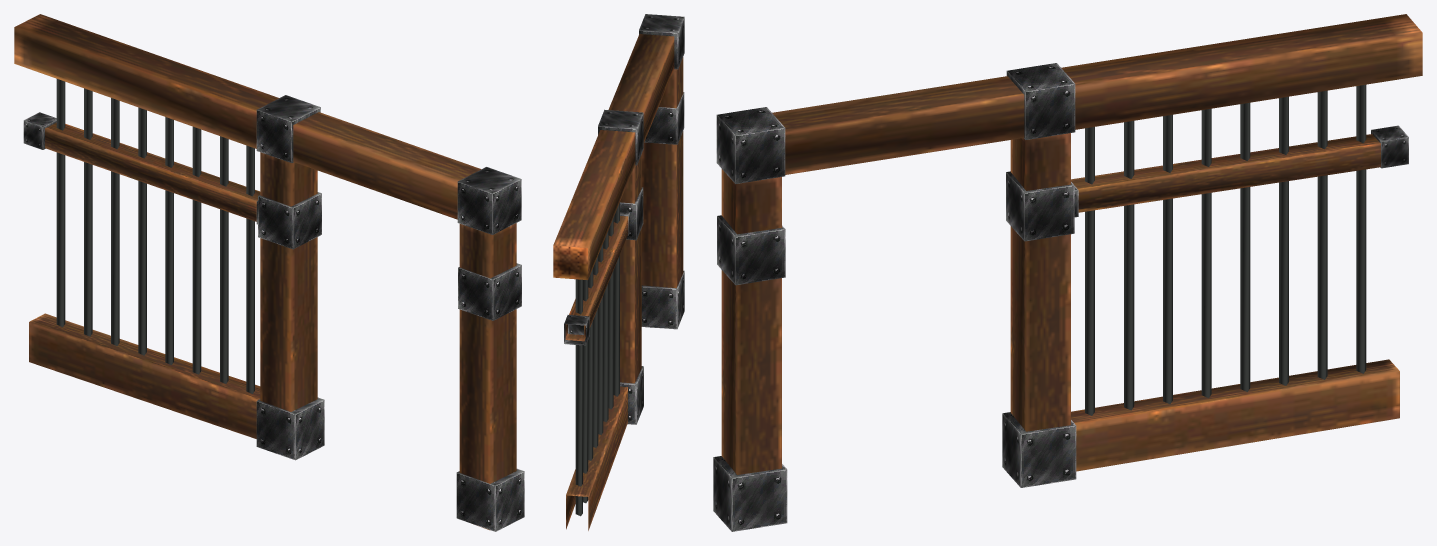
Rendered from SWORDLIGHT20_JAILCELLBARS04.fbx.
3 views of the same model, side by side, from view 1: azimuth 30°, elevation 25°; view 2: azimuth 150°, elevation 25°; view 3: azimuth 270°, elevation 25° (orthographic). The views are drawn at different scales.
Parts seen in each view (by area): view 1: SWORDLIGHT20_JAILCELLBARS04; view 2: SWORDLIGHT20_JAILCELLBARS04; view 3: SWORDLIGHT20_JAILCELLBARS04.
Part boxes in pixels (<box>): SWORDLIGHT20_JAILCELLBARS04: <box>14,14,524,531</box>; SWORDLIGHT20_JAILCELLBARS04: <box>553,14,684,530</box>; SWORDLIGHT20_JAILCELLBARS04: <box>713,14,1422,531</box>.
Size of the model in its own units: 25378 by 36866 by 59848.
Materials: 3 (3 with a texture image).
